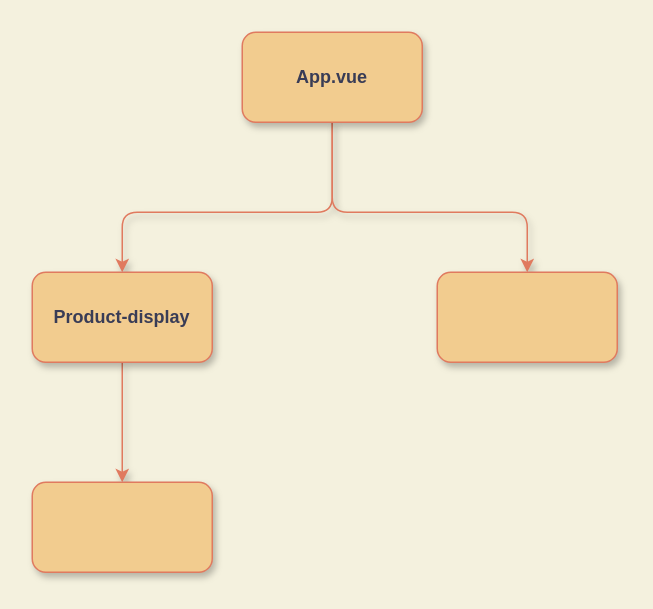
This 653x609 diagram has some shape labels left out. Here are the shapes that lost their labels. From the top down, the centre of each, then its label:
At point (528, 319): "Modal-item".
At point (123, 529): "Product-details".
